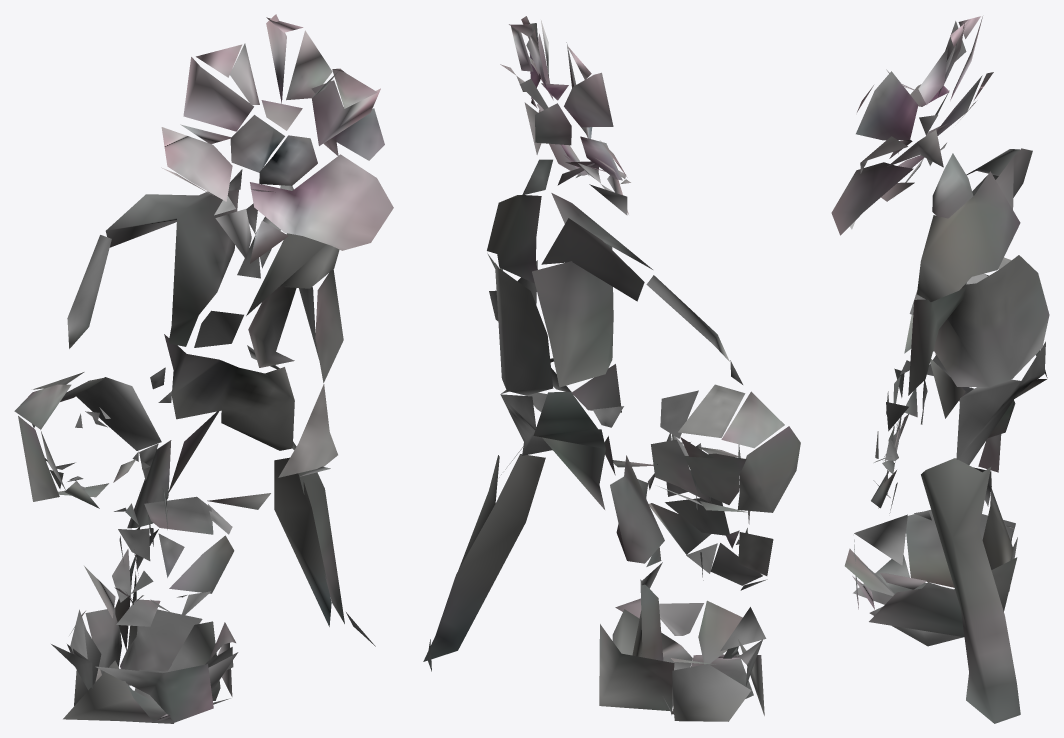
Rendered from cast_clerk_far.glb.
The picture shows the model from 3 angles, left to right: view 1: azimuth 30°, elevation 25°; view 2: azimuth 150°, elevation 25°; view 3: azimuth 270°, elevation 25°; orthographic projection. The views are drawn at different scales.
Parts seen in each view (by area): view 1: tripo_node_693e19a1-a717-4693-80da-2d3c8cc25a0a; view 2: tripo_node_693e19a1-a717-4693-80da-2d3c8cc25a0a; view 3: tripo_node_693e19a1-a717-4693-80da-2d3c8cc25a0a.
Part boxes in pixels (left/top/right/bottom): tripo_node_693e19a1-a717-4693-80da-2d3c8cc25a0a: left=14, top=14, right=393, bottom=723; tripo_node_693e19a1-a717-4693-80da-2d3c8cc25a0a: left=423, top=16, right=800, bottom=721; tripo_node_693e19a1-a717-4693-80da-2d3c8cc25a0a: left=831, top=16, right=1049, bottom=723.
Bounding box in the file's own units: 0.5284 × 0.9851 × 0.293.
1 material, 1 textured.
